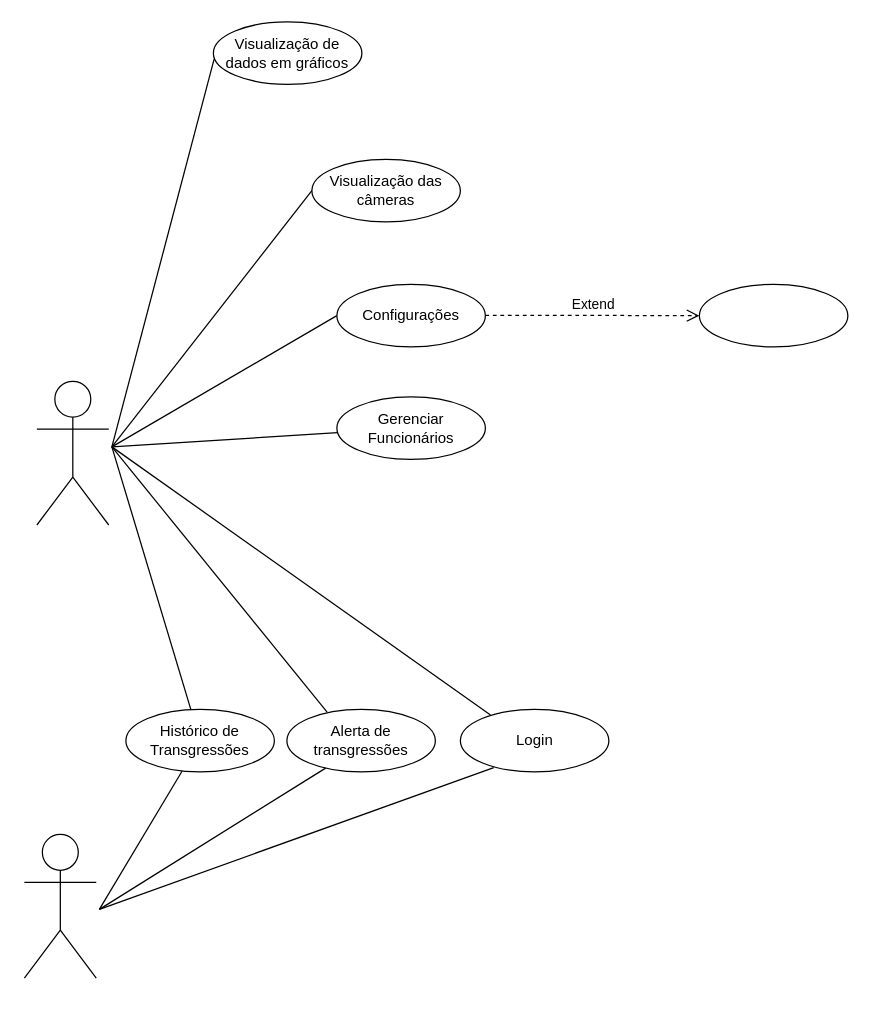
The diagram is 871 pixels wide and 1026 high, and some of its shapes have lost their labels. Here are the shapes that lost their labels. From the top down, the centre of each, then its label:
the point at 773,315: EPIs a serem verificados
the point at 72,452: Gestor
the point at 59,905: Funcionário
